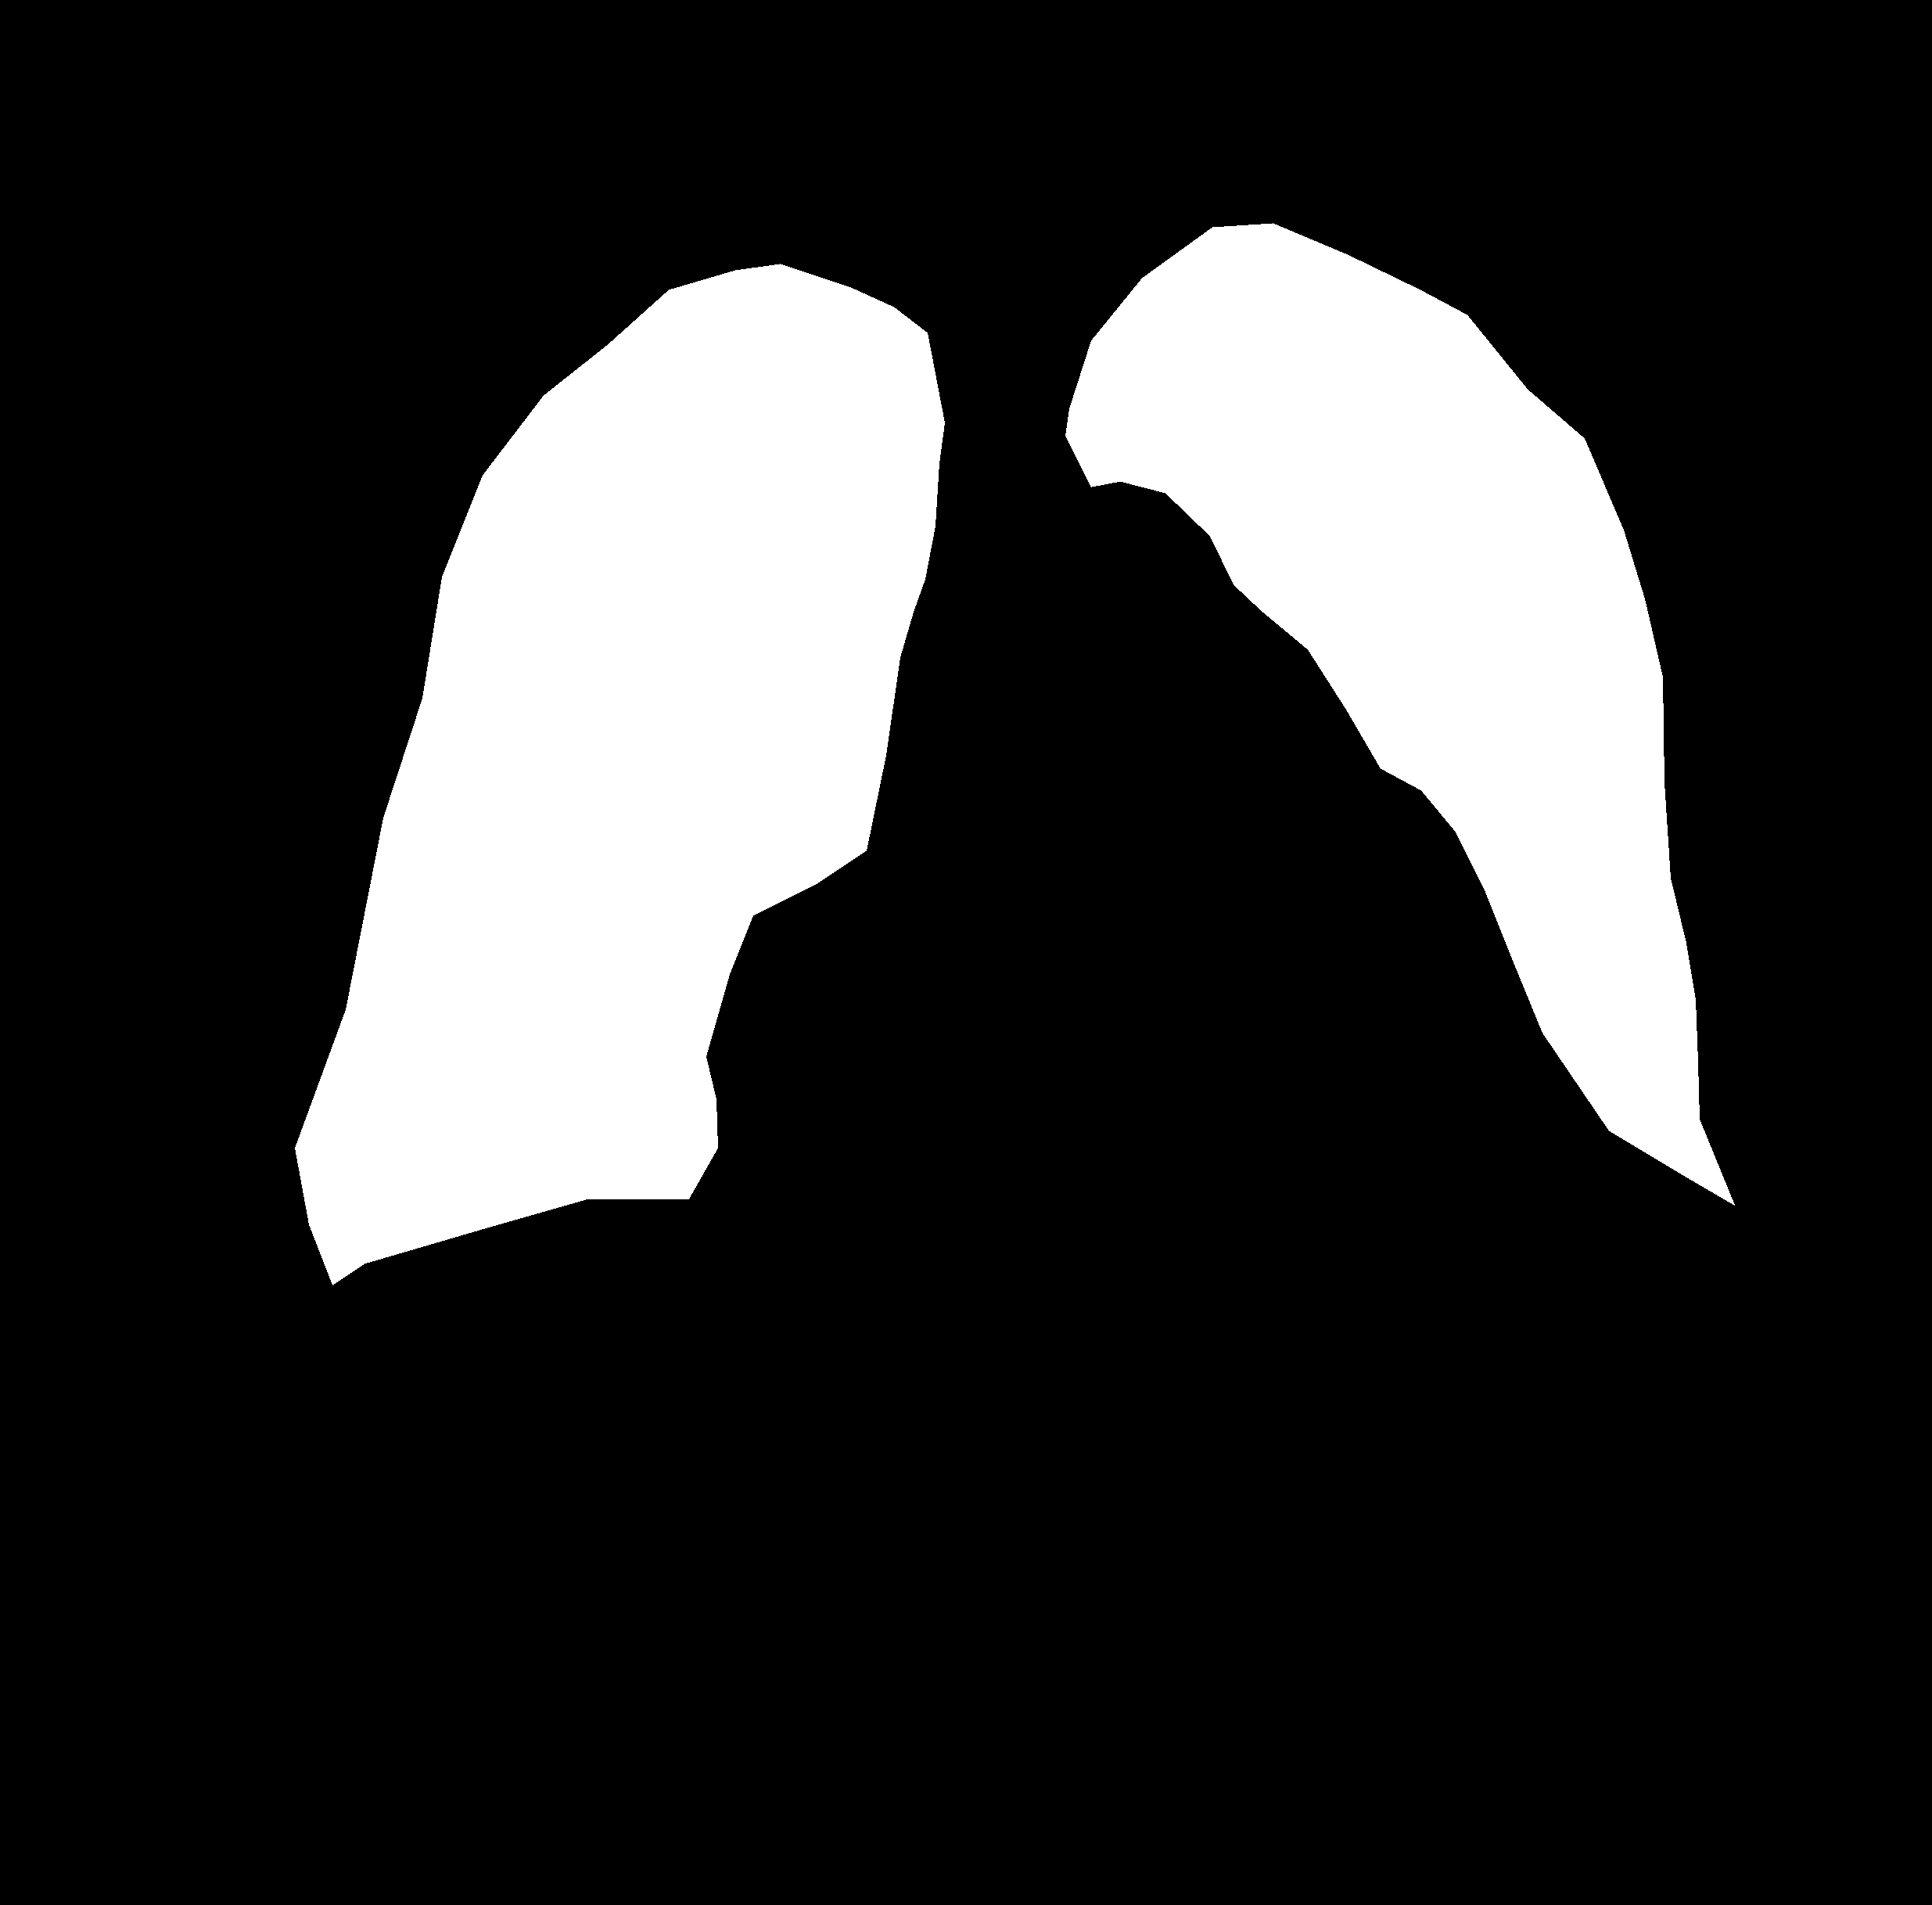heart: (706, 649, 1768, 1392)
left_lung: (295, 263, 943, 1284)
right_lung: (1065, 223, 1735, 1205)
